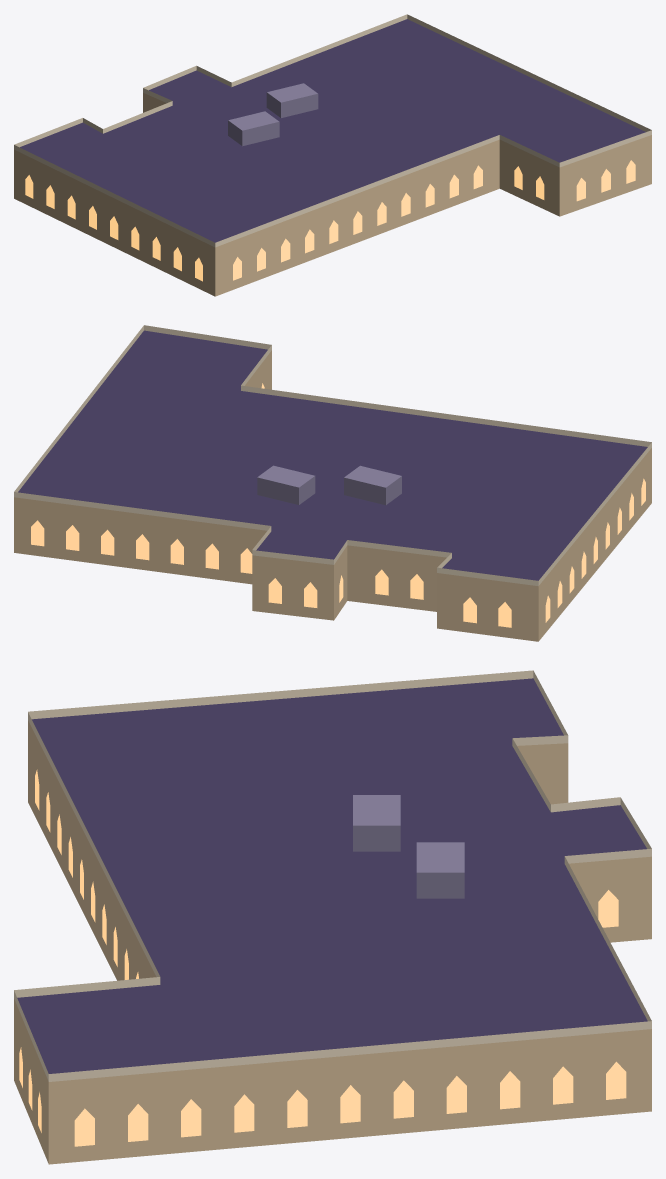
3 views of the same model, one above another, from view 1: azimuth 30°, elevation 25°; view 2: azimuth 150°, elevation 25°; view 3: azimuth 270°, elevation 25° (orthographic). The views are drawn at different scales.
Parts seen in each view (by area): view 1: campus/b-040-0; view 2: campus/b-040-0; view 3: campus/b-040-0.
Boxes of the visible parts, box(x1,y1,x2,y2) form: campus/b-040-0: box(14, 14, 651, 296); campus/b-040-0: box(14, 325, 651, 641); campus/b-040-0: box(14, 670, 651, 1164).
Bounding box in the file's own units: 59.84 × 7.5 × 39.96.
